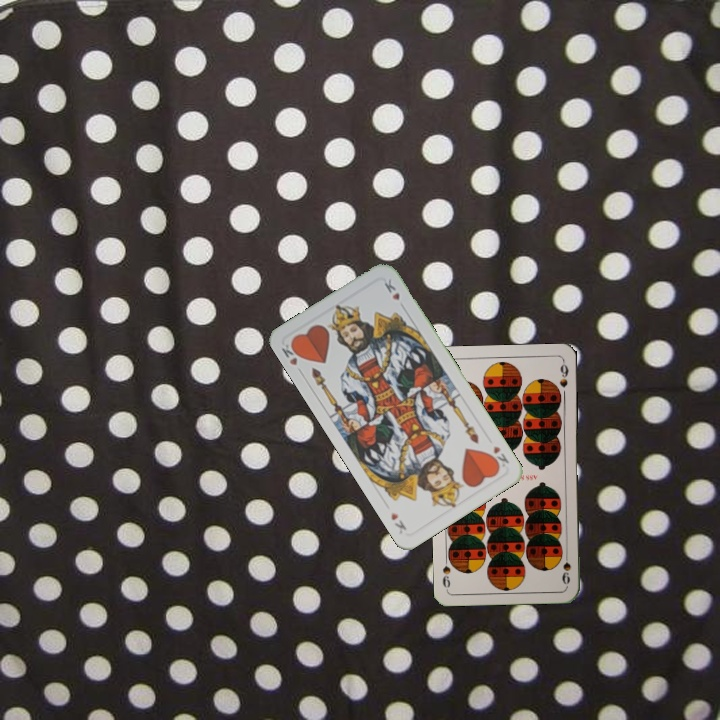HK: (277, 338, 305, 377), (485, 442, 512, 473)
S9: (558, 547, 573, 587)
